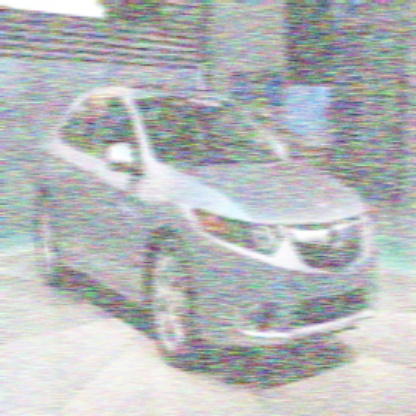Vehicle: (34, 82, 378, 370)
